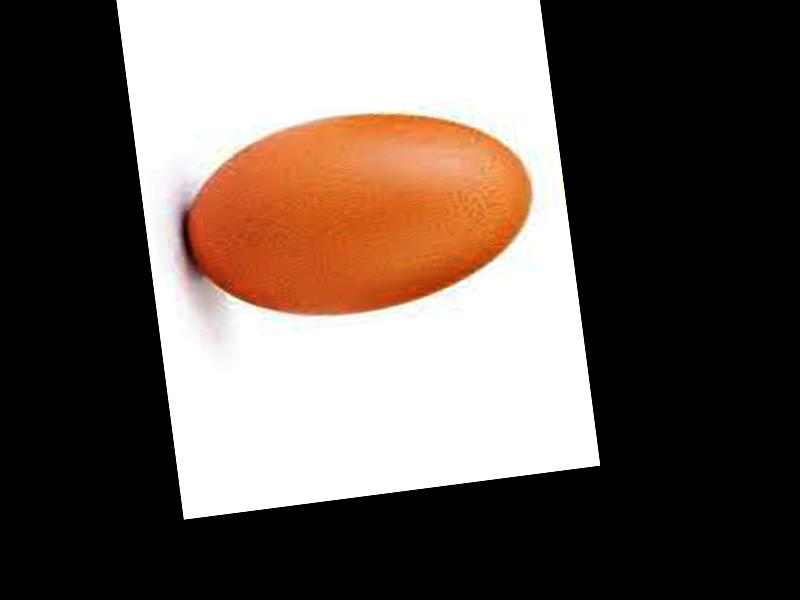Eggs: (174, 96, 543, 331)
